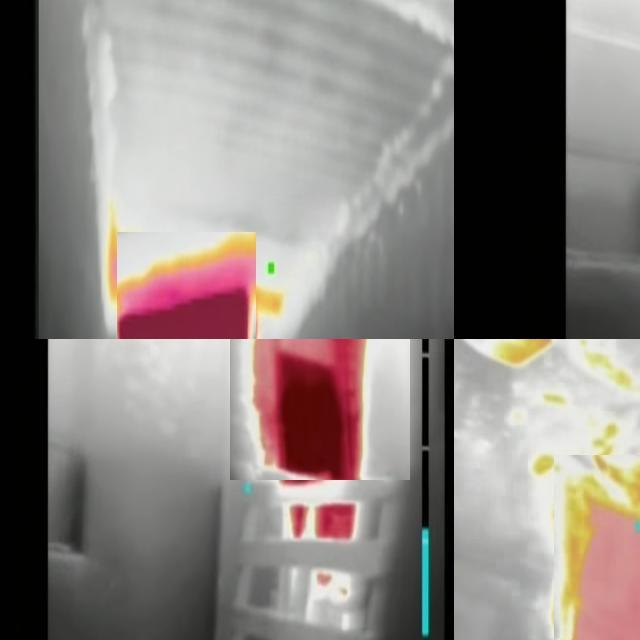fire: (230, 340, 410, 480), (554, 455, 640, 640), (117, 232, 256, 340)
